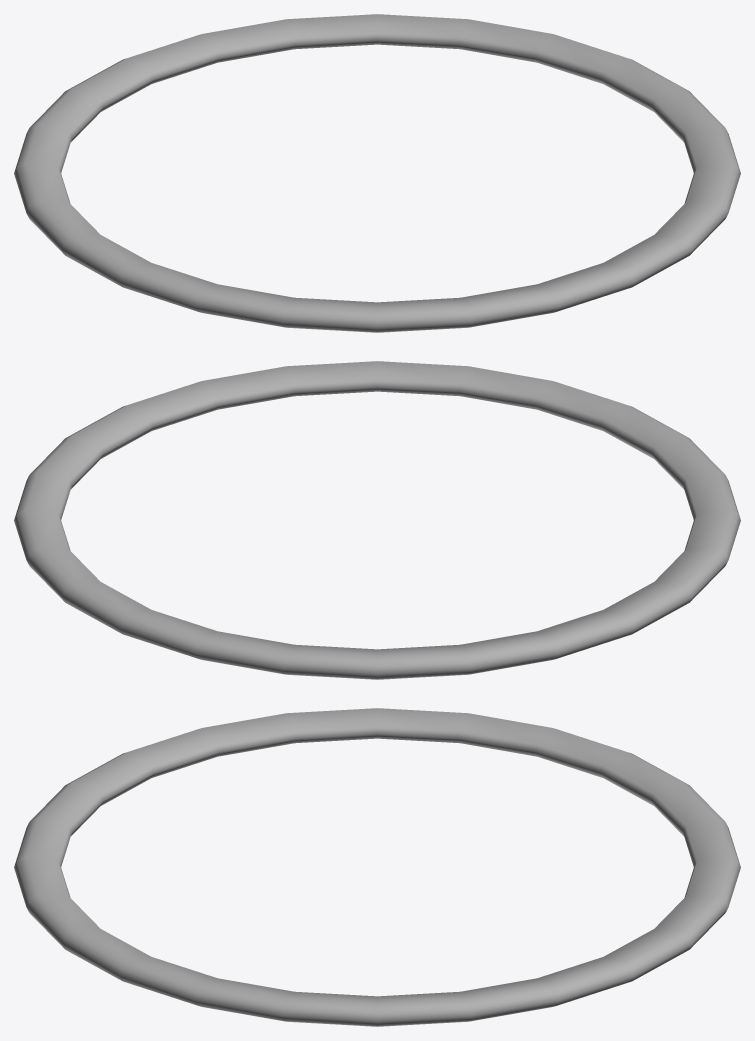
Rendered from ring_silver.fbx.
3 renders of one model, top to bottom at view 1: azimuth 30°, elevation 25°; view 2: azimuth 150°, elevation 25°; view 3: azimuth 270°, elevation 25°, orthographic.
Parts seen in each view (by area): view 1: Torus001; view 2: Torus001; view 3: Torus001.
Boxes of the visible parts, x1=… form: Torus001: x1=14, y1=14, x2=740, y2=332; Torus001: x1=14, y1=361, x2=740, y2=679; Torus001: x1=14, y1=708, x2=740, y2=1026.
Size of the model in its own units: 34.39 by 1.12 by 34.39.
Materials: 1 (1 with a texture image).
